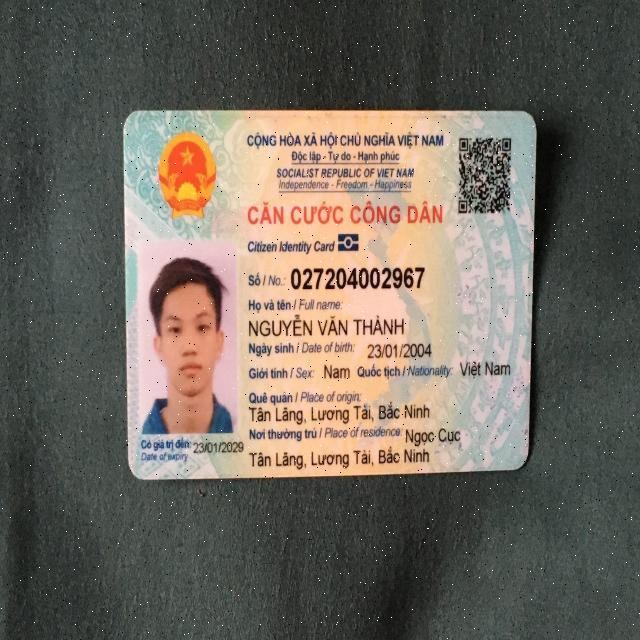current_place: (248, 445, 432, 471), (403, 425, 464, 448)
dob: (363, 336, 433, 363)
expire_date: (193, 435, 247, 459)
gender: (323, 359, 353, 384)
id: (288, 261, 424, 293)
name: (248, 310, 405, 338)
nationality: (454, 355, 511, 384)
origin_place: (247, 400, 432, 424)
qr: (457, 132, 514, 220)
